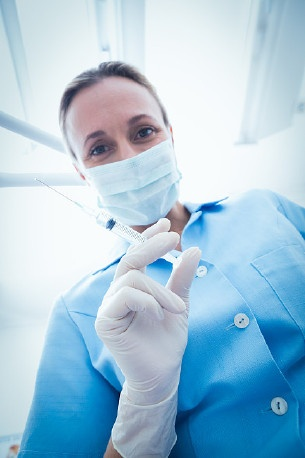Mask: (80, 115, 189, 224)
